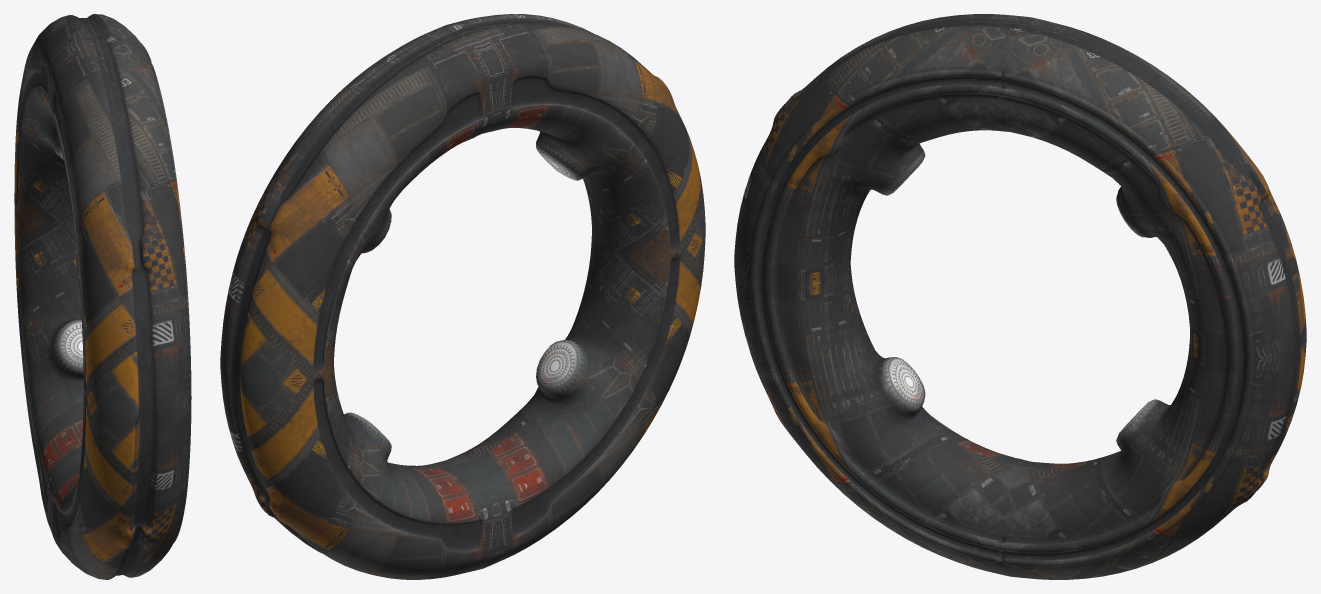
File: artifact_ring_anim.fbx
3 renders of one model, left to right at view 1: azimuth 30°, elevation 25°; view 2: azimuth 150°, elevation 25°; view 3: azimuth 270°, elevation 25°, orthographic. The views are drawn at different scales.
Parts seen in each view (by area): view 1: alien_artifact_ring_02:Mesh; view 2: alien_artifact_ring_02:Mesh; view 3: alien_artifact_ring_02:Mesh.
Part boxes in pixels (<box>): alien_artifact_ring_02:Mesh: <box>14,14,191,579</box>; alien_artifact_ring_02:Mesh: <box>220,14,705,579</box>; alien_artifact_ring_02:Mesh: <box>734,14,1306,579</box>.
Size of the model in its own units: 1.19 by 2.47 by 2.34.
